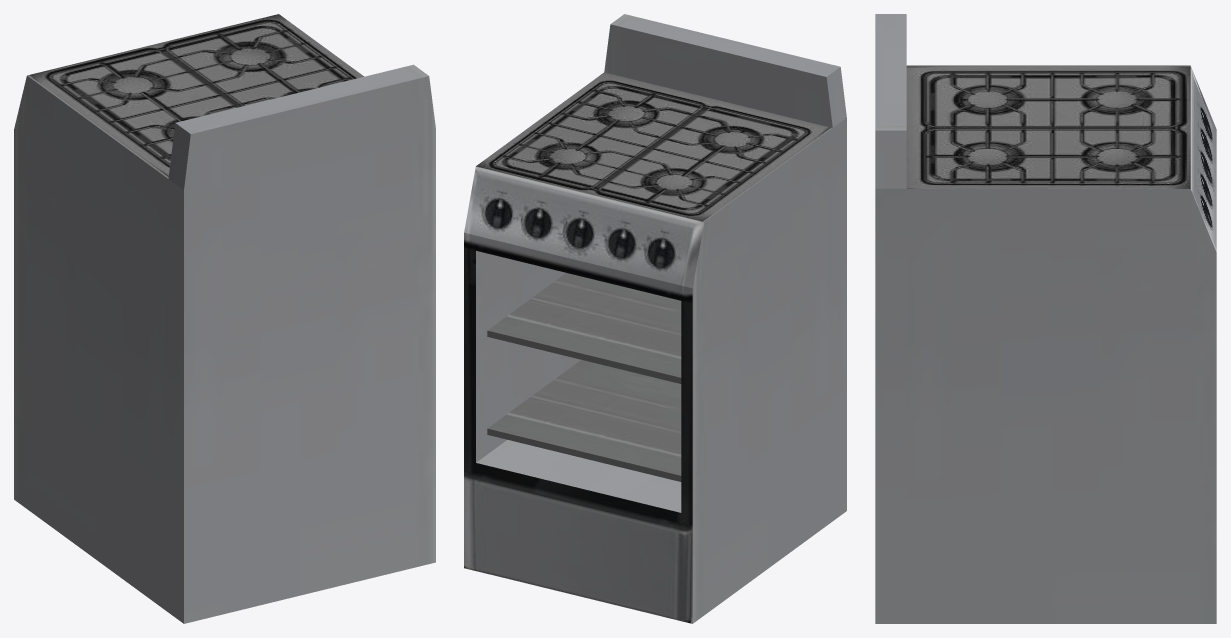
File: Stove_05.glb
3 views of the same model, side by side, from view 1: azimuth 30°, elevation 25°; view 2: azimuth 150°, elevation 25°; view 3: azimuth 270°, elevation 25° (orthographic). The views are drawn at different scales.
Visible parts, largest first — view 1: Stove_05; view 2: Stove_05; view 3: Stove_05.
Boxes of the visible parts, left/top/right/bottom form: Stove_05: left=14, top=14, right=435, bottom=623; Stove_05: left=464, top=14, right=846, bottom=623; Stove_05: left=875, top=14, right=1216, bottom=623.
Bounding box in the file's own units: 0.6364 × 1.18 × 0.7437.
1 material, 1 textured.
